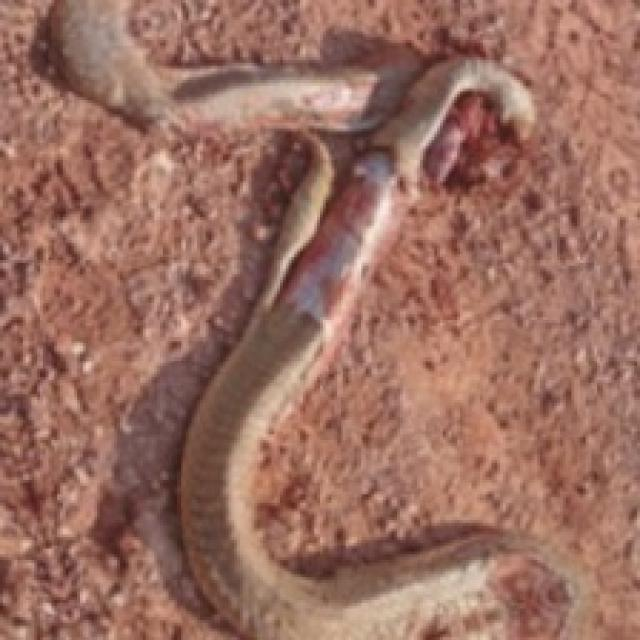king cobra: (37, 0, 597, 637)
